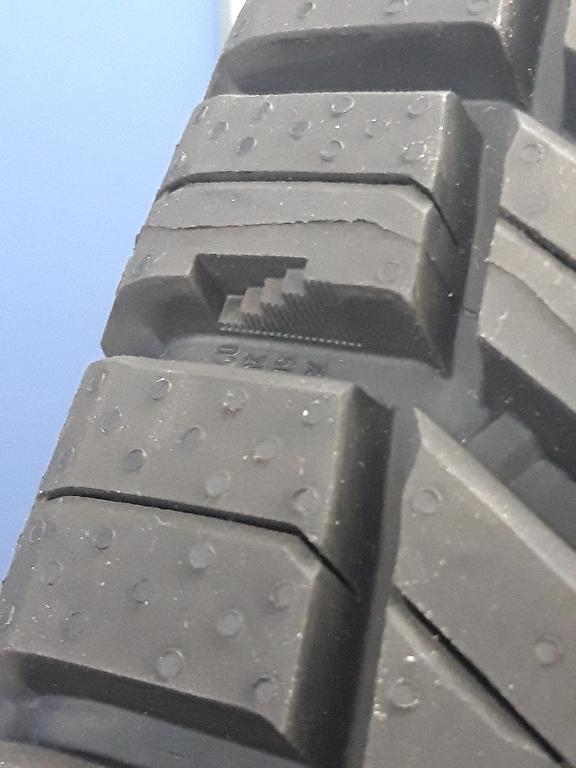temoin:100: (182, 248, 370, 354)
